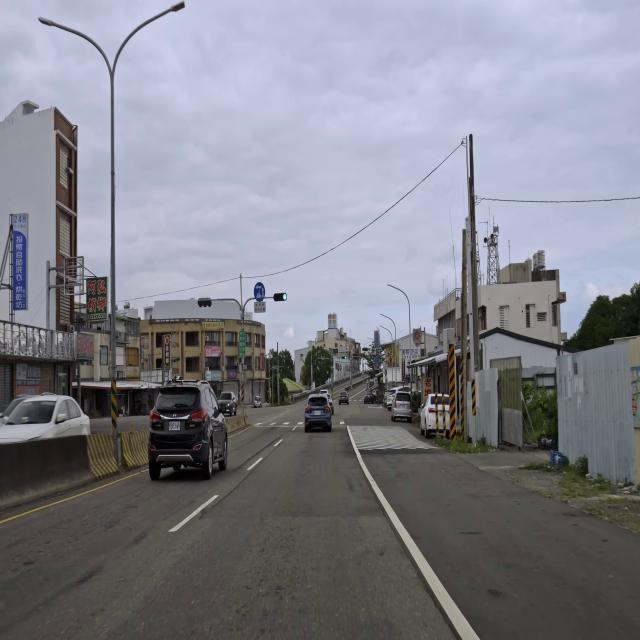green light: (273, 293, 287, 302)
